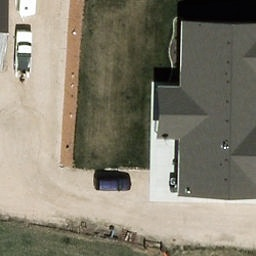camping car: (16, 0, 38, 21)
car: (95, 178, 132, 193)
pickup: (16, 31, 32, 79)
